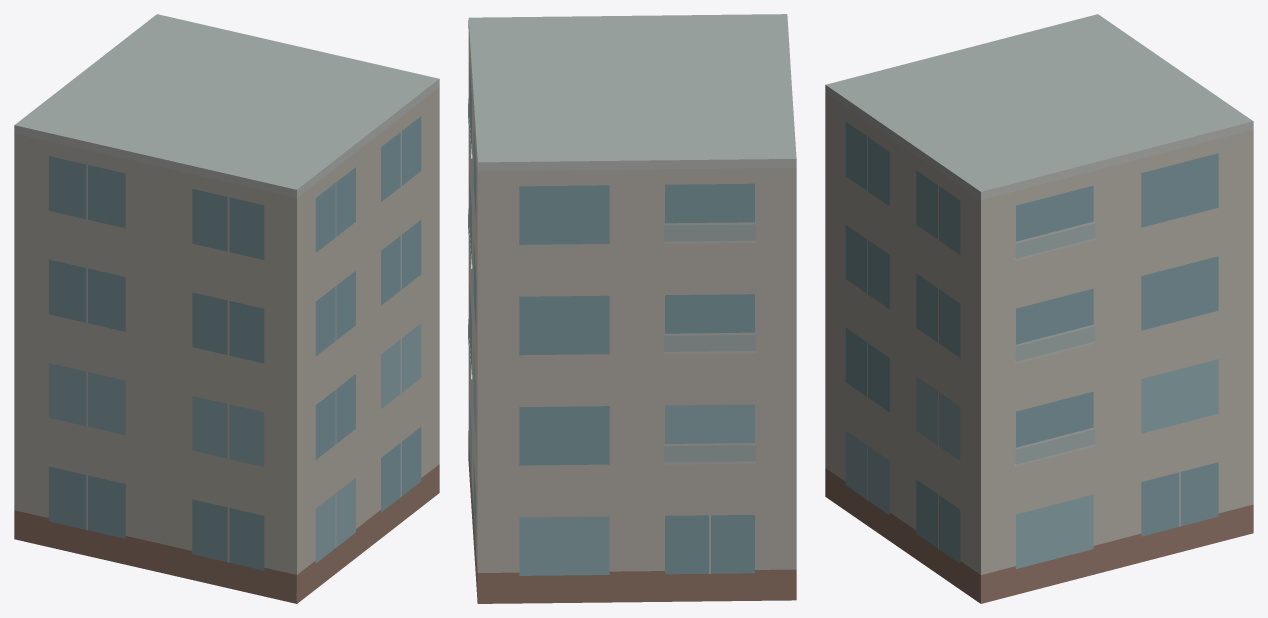
The model's file is residential-69e5f78e-6c68-4b6f-9174-f54051925e16.glb.
The picture shows the model from 3 angles, left to right: view 1: azimuth 30°, elevation 25°; view 2: azimuth 150°, elevation 25°; view 3: azimuth 270°, elevation 25°; orthographic projection. The views are drawn at different scales.
Visible parts, largest first — view 1: residential-69e5f78e-6c68-4b6f-9174-f54051925e16.tmp; view 2: residential-69e5f78e-6c68-4b6f-9174-f54051925e16.tmp; view 3: residential-69e5f78e-6c68-4b6f-9174-f54051925e16.tmp.
Part boxes in pixels (bbox=[...]): residential-69e5f78e-6c68-4b6f-9174-f54051925e16.tmp: bbox=[14, 14, 439, 603]; residential-69e5f78e-6c68-4b6f-9174-f54051925e16.tmp: bbox=[468, 14, 796, 603]; residential-69e5f78e-6c68-4b6f-9174-f54051925e16.tmp: bbox=[825, 14, 1253, 603].
Bounding box in the file's own units: 11.31 × 12.2 × 11.5.
